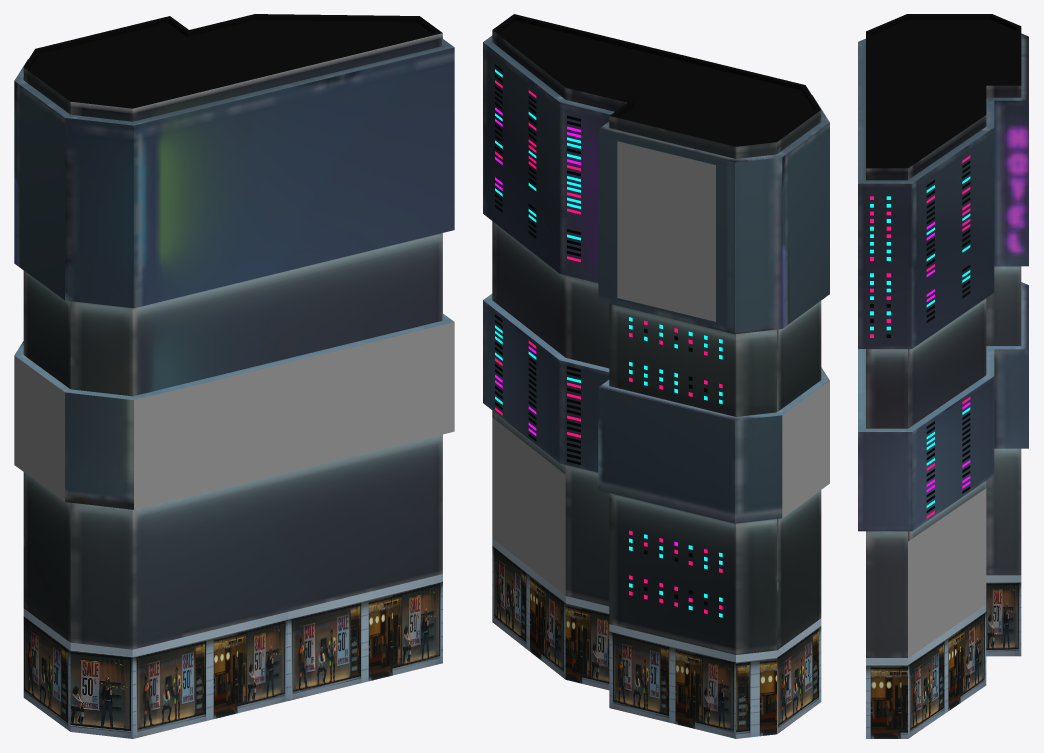
File: BLD1310014.fbx
3 views of the same model, side by side, from view 1: azimuth 30°, elevation 25°; view 2: azimuth 150°, elevation 25°; view 3: azimuth 270°, elevation 25° (orthographic). The views are drawn at different scales.
Parts seen in each view (by area): view 1: smBLD1310014; view 2: smBLD1310014; view 3: smBLD1310014.
Boxes of the visible parts, x1,y1,x2,y2 form: smBLD1310014: [14, 14, 454, 738]; smBLD1310014: [483, 14, 829, 738]; smBLD1310014: [858, 14, 1028, 738].
Size of the model in its own units: 1244 by 2049 by 559.
Materials: 4 (1 with a texture image).
